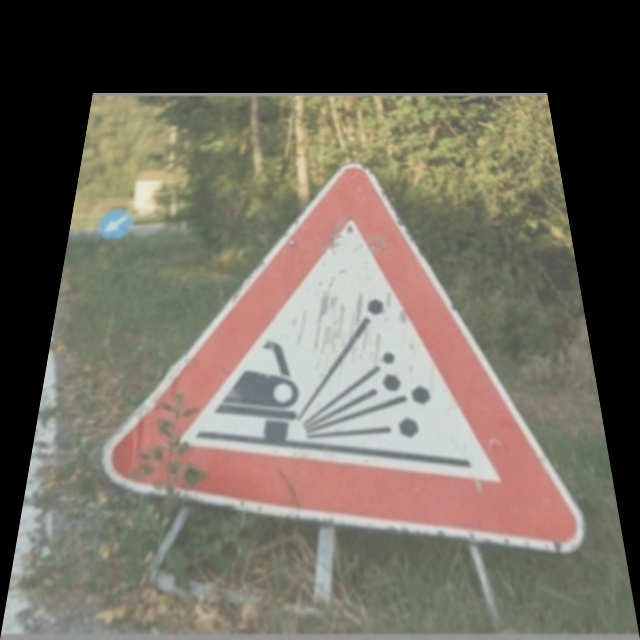Loose_Gravel: (114, 167, 552, 526)
